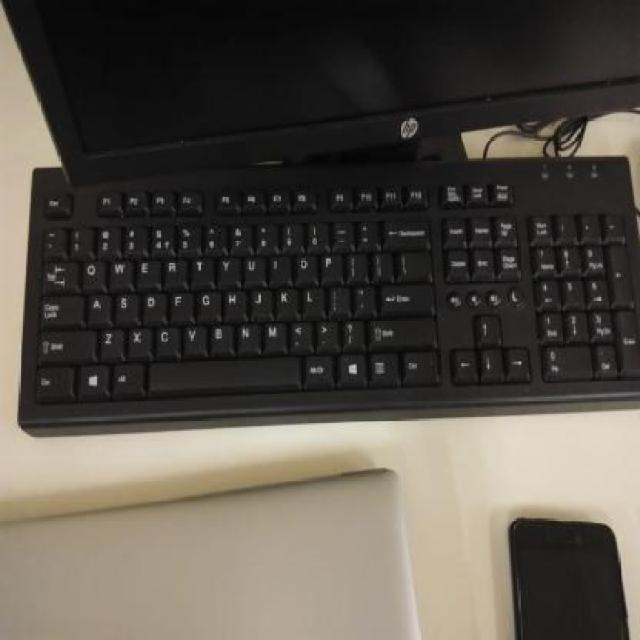keyboard: (16, 181, 640, 434)
